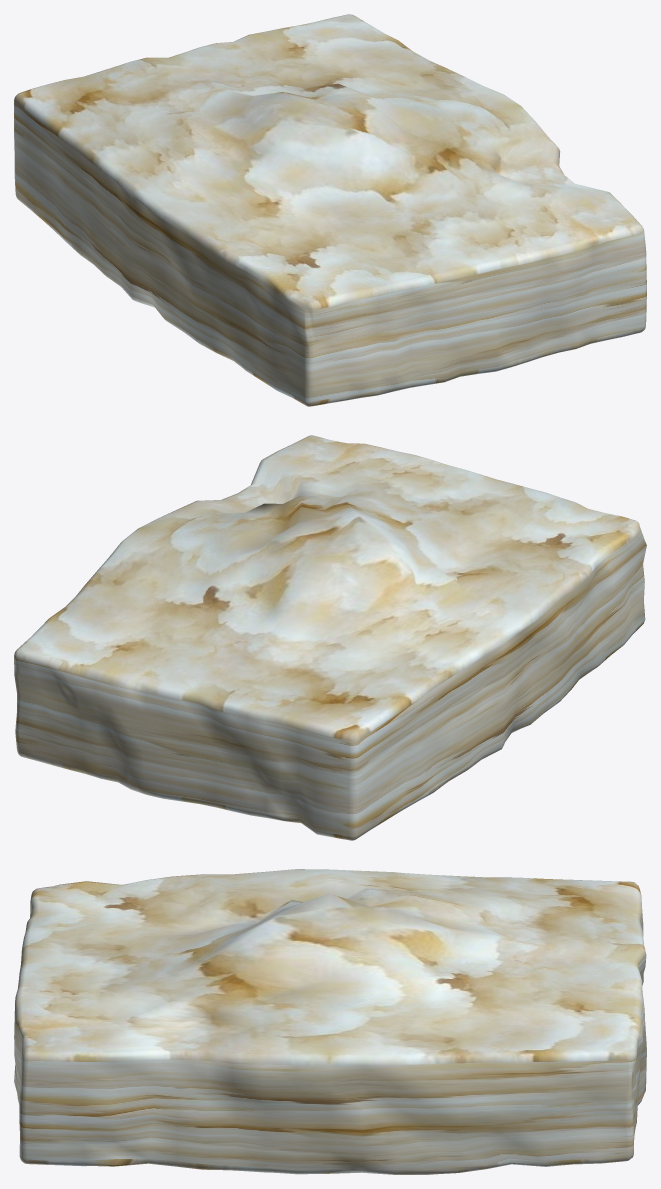
The model's file is Blubber_01.FBX.
3 renders of one model, top to bottom at view 1: azimuth 30°, elevation 25°; view 2: azimuth 150°, elevation 25°; view 3: azimuth 270°, elevation 25°, orthographic. The views are drawn at different scales.
Parts seen in each view (by area): view 1: ChamferBox001; view 2: ChamferBox001; view 3: ChamferBox001.
Part boxes in pixels (box(x1,y1,x2,y2)): ChamferBox001: box(14, 14, 646, 406); ChamferBox001: box(14, 435, 646, 840); ChamferBox001: box(14, 869, 646, 1174).
Bounding box in the file's own units: 23.86 × 12.34 × 32.77.
